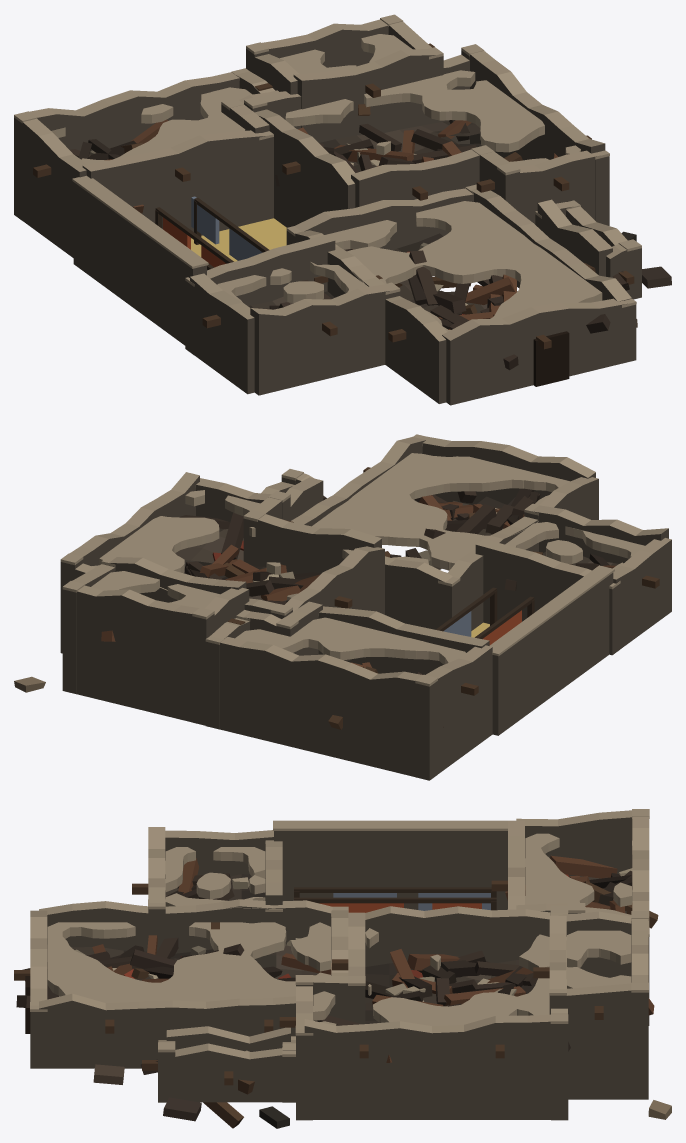
File: VerBuild08a.glb
The picture shows the model from 3 angles, top to bottom: view 1: azimuth 30°, elevation 25°; view 2: azimuth 150°, elevation 25°; view 3: azimuth 270°, elevation 25°; orthographic projection. The views are drawn at different scales.
Parts seen in each view (by area): view 1: VerBuild08a_flat; view 2: VerBuild08a_flat; view 3: VerBuild08a_flat.
Part boxes in pixels (box(x1,y1,x2,y2)): VerBuild08a_flat: box(14, 14, 671, 405); VerBuild08a_flat: box(14, 434, 671, 780); VerBuild08a_flat: box(14, 809, 671, 1128).
Bounding box in the file's own units: 9.73 × 2.84 × 11.8.
